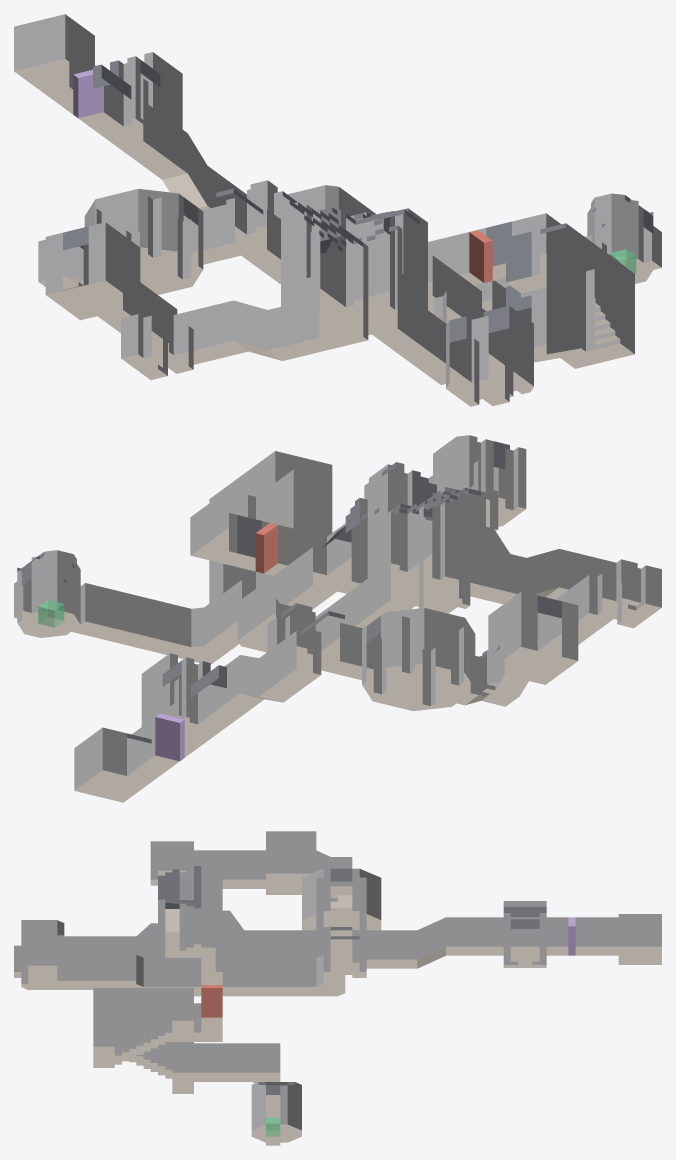
File: research_09.glb
3 renders of one model, top to bottom at view 1: azimuth 30°, elevation 25°; view 2: azimuth 150°, elevation 25°; view 3: azimuth 270°, elevation 25°, orthographic. The views are drawn at different scales.
Parts seen in each view (by area): view 1: corridor:8, room:7, room:1, corridor:4, corridor:3, corridor:7, room:1/portals, room:6, room:0, room:4, corridor:1, room:2 (+18 smaller); view 2: corridor:8, room:7, corridor:6, room:1, corridor:7, room:1/portals, corridor:3, corridor:1, room:2, room:6, room:0, corridor:4 (+17 smaller); view 3: corridor:8, corridor:7, room:7, corridor:3, corridor:6, room:1, corridor:5, room:2, room:0, room:6, corridor:2, room:4 (+12 smaller).
Boxes of the visible parts, x1,y1,x2,y2 form: corridor:8: [38, 189, 240, 350]; room:7: [506, 223, 634, 368]; room:1: [281, 199, 427, 350]; corridor:4: [182, 300, 299, 363]; corridor:3: [123, 104, 241, 232]; corridor:7: [282, 185, 509, 373]; room:1/portals: [306, 205, 403, 339]; room:6: [14, 14, 94, 92]; room:0: [446, 306, 533, 406]; room:4: [93, 52, 182, 150]; corridor:1: [428, 213, 565, 296]; room:2: [587, 193, 653, 283]; corridor:8: [326, 578, 608, 711]; room:7: [209, 451, 332, 603]; corridor:6: [71, 580, 241, 664]; room:1: [346, 462, 485, 613]; corridor:7: [237, 475, 432, 652]; room:1/portals: [359, 470, 466, 608]; corridor:3: [202, 634, 316, 726]; corridor:1: [190, 504, 334, 587]; room:2: [17, 550, 80, 637]; room:6: [74, 727, 151, 802]; room:0: [433, 435, 526, 527]; corridor:4: [496, 549, 608, 604]; corridor:8: [194, 831, 381, 959]; corridor:7: [64, 951, 345, 996]; room:7: [93, 988, 193, 1093]; corridor:3: [366, 917, 503, 968]; corridor:6: [194, 1043, 280, 1123]; room:1: [165, 862, 222, 983]; corridor:5: [546, 917, 618, 955]; room:2: [251, 1082, 301, 1142]; room:0: [21, 920, 64, 989]; room:6: [618, 914, 661, 964]; corridor:2: [244, 930, 323, 957]; room:4: [503, 901, 546, 967].
Size of the model in its own units: 69 by 21 by 90.
